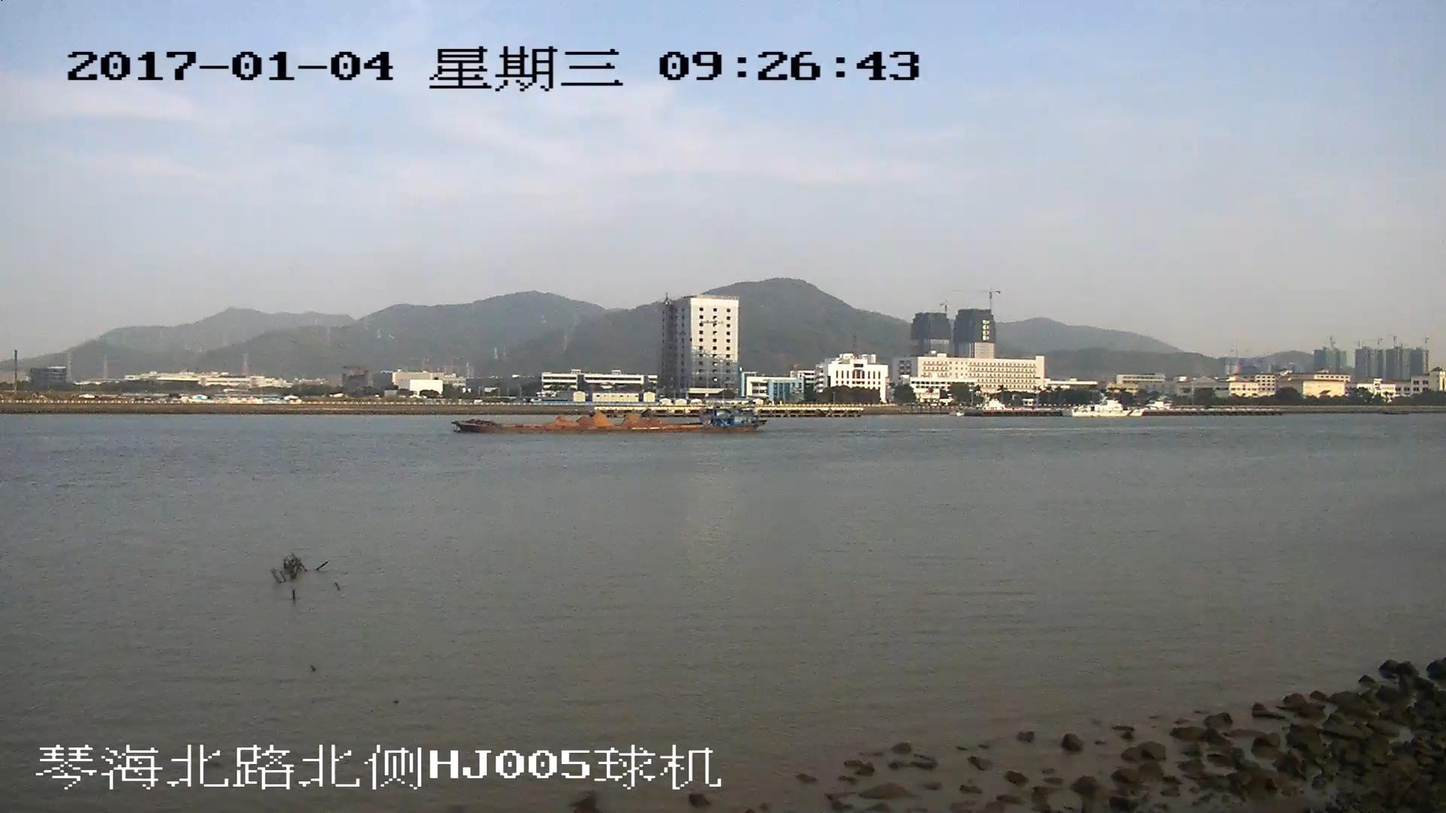ore carrier: (453, 402, 764, 432)
